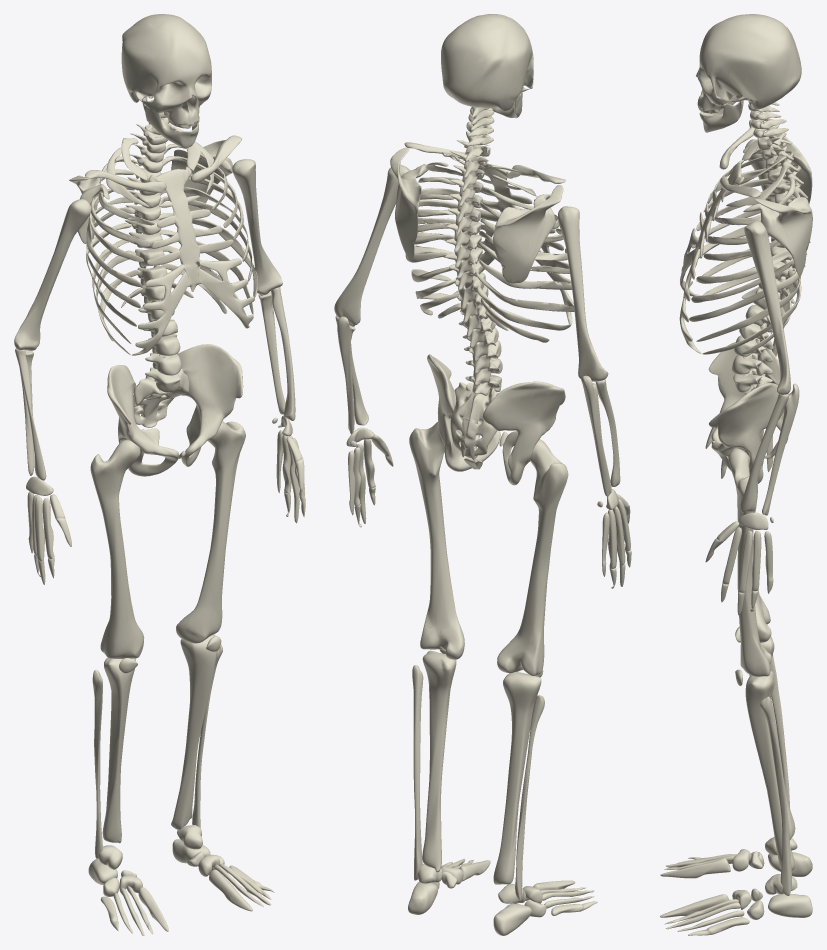
Rendered from skeleton.glb.
3 views of the same model, side by side, from view 1: azimuth 30°, elevation 25°; view 2: azimuth 150°, elevation 25°; view 3: azimuth 270°, elevation 25° (orthographic).
Parts seen in each view (by area): view 1: Object_2; view 2: Object_2; view 3: Object_2.
Boxes of the visible parts, box(x1,y1,x2,y2) form: Object_2: box(14, 14, 305, 935); Object_2: box(334, 14, 631, 935); Object_2: box(660, 14, 812, 935).
Size of the model in its own units: 5.04 by 15.78 by 2.48.
Materials: 1 (1 with a texture image).
